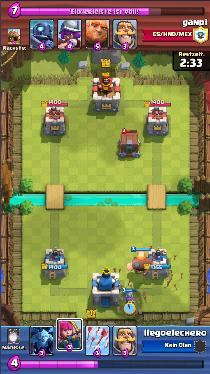ally_giant: (127, 251, 156, 277)
ally_goblin_cage: (119, 133, 141, 157)
ally_musketeer: (123, 291, 134, 308)
enemy_arrow: (117, 247, 183, 298)
